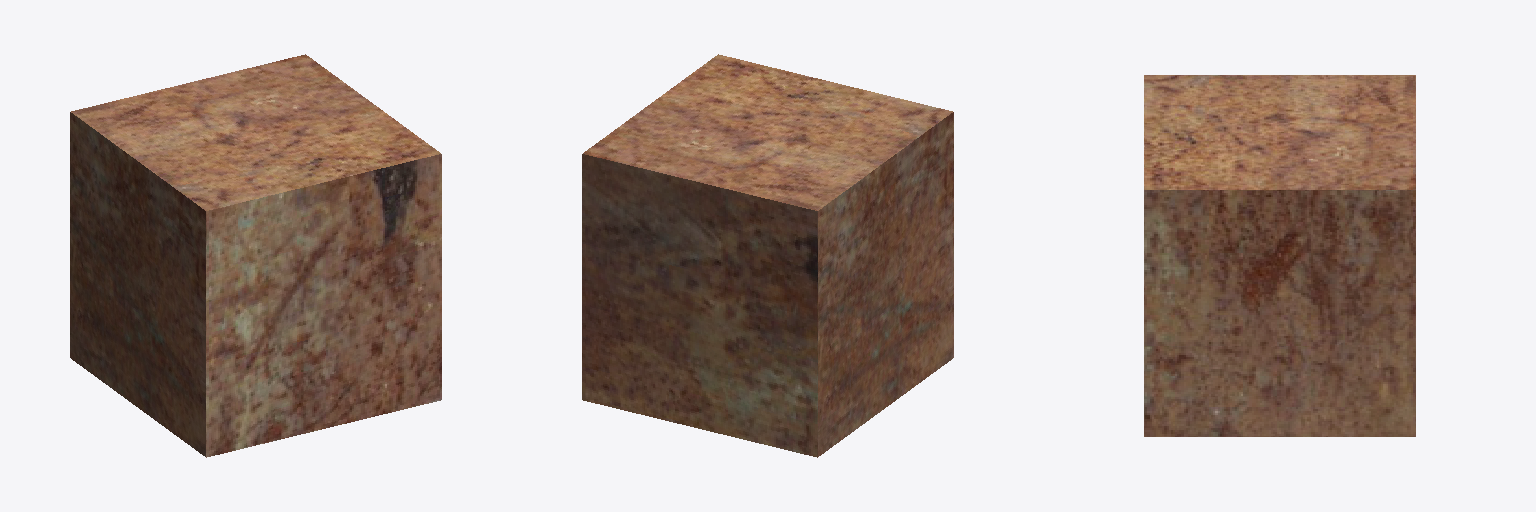
3 views of the same model, side by side, from view 1: azimuth 30°, elevation 25°; view 2: azimuth 150°, elevation 25°; view 3: azimuth 270°, elevation 25° (orthographic).
Visible parts, largest first — view 1: Cube; view 2: Cube; view 3: Cube.
Boxes of the visible parts, <box> form: Cube: <box>70,54,441,457</box>; Cube: <box>582,54,953,457</box>; Cube: <box>1144,75,1415,436</box>.
Bounding box in the file's own units: 2 × 2 × 2.
1 materials, 1 textured.